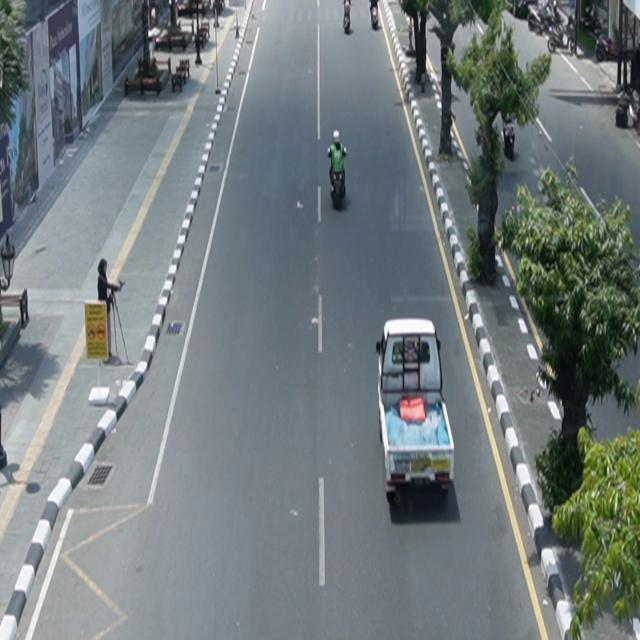car: (376, 318, 456, 507)
